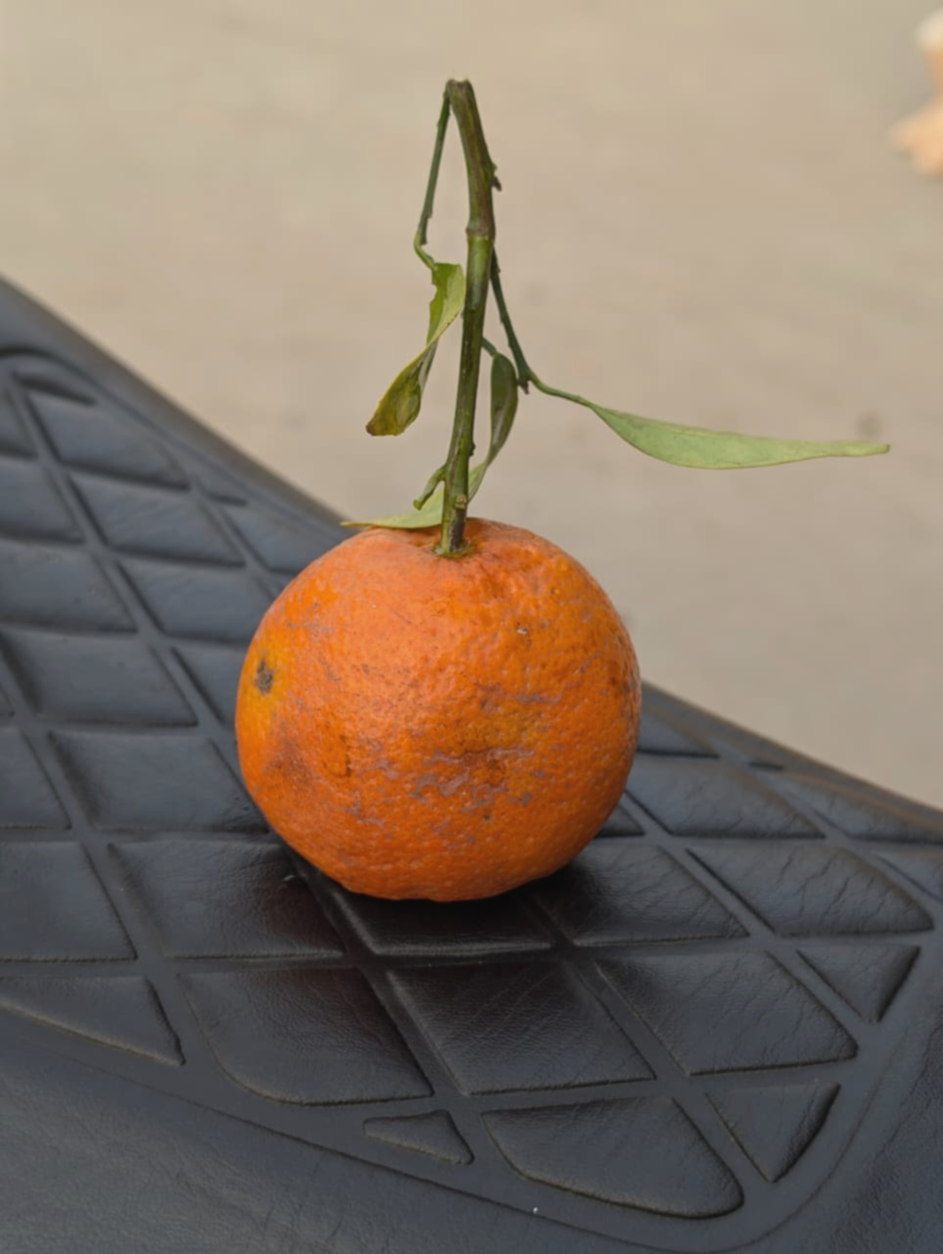orange: (33, 0, 839, 1115)
